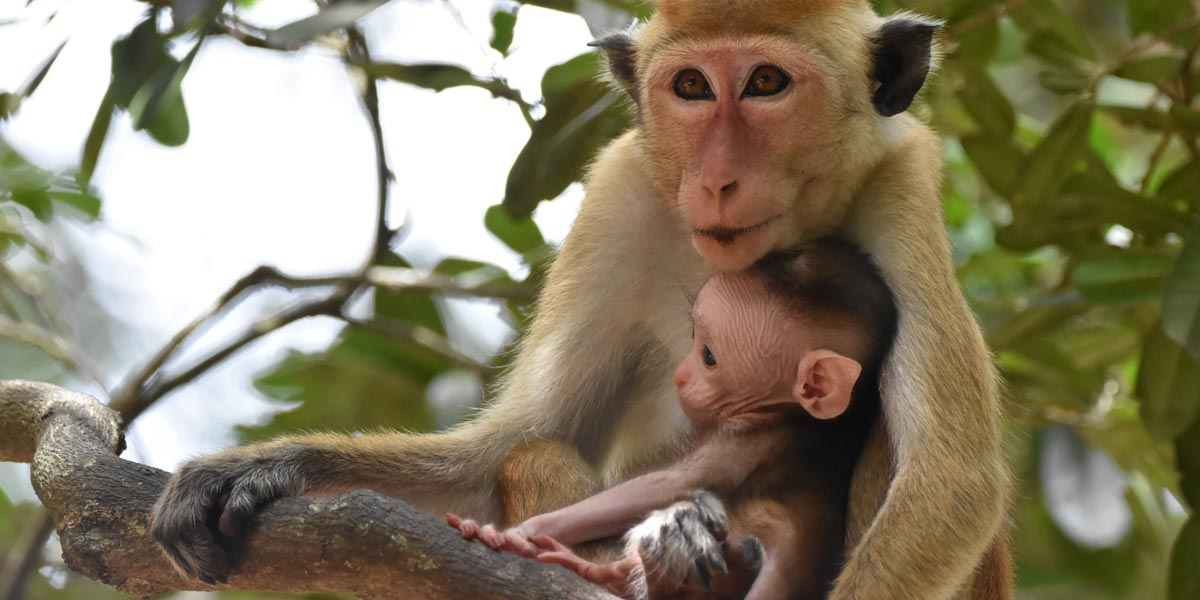Monkey: (572, 1, 938, 423)
